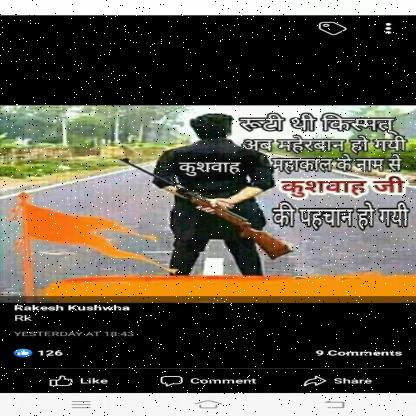rifle: (116, 157, 296, 261)
